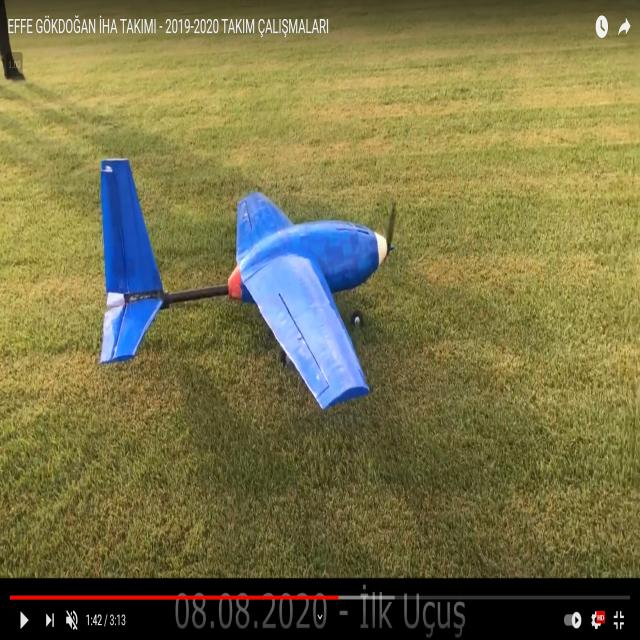iha: (98, 153, 394, 409)
